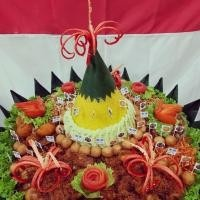nasi_tumpeng: (11, 34, 196, 200)
